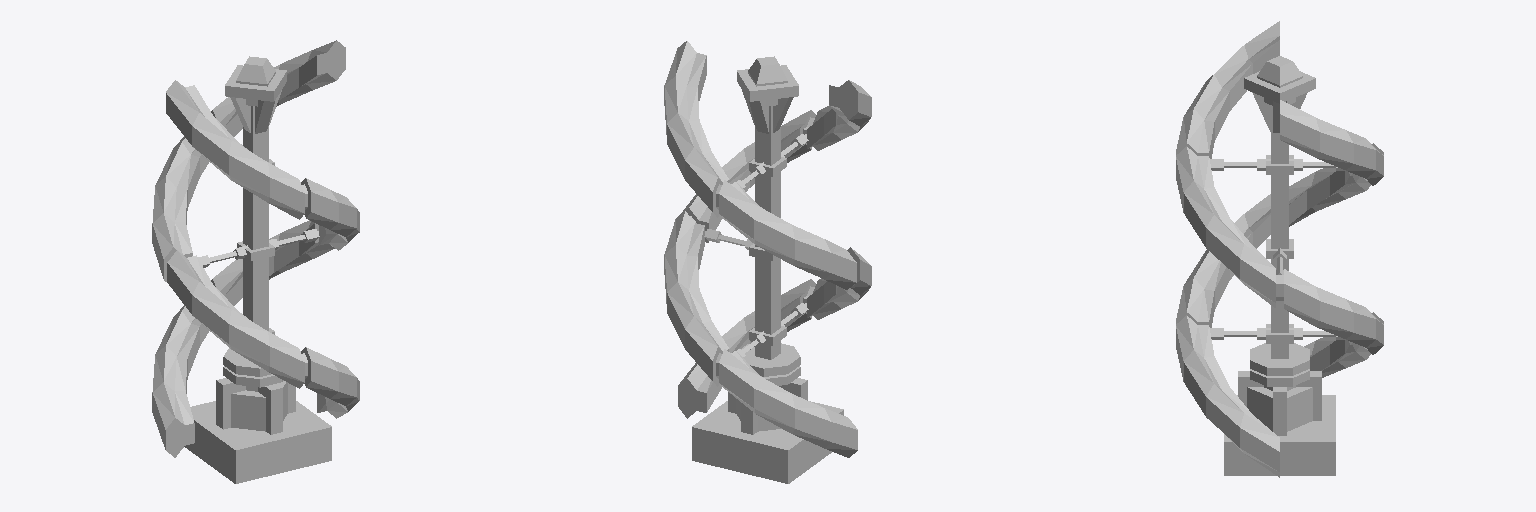
File: darius_wind_generator.obj
The picture shows the model from 3 angles: view 1: azimuth 30°, elevation 25°; view 2: azimuth 150°, elevation 25°; view 3: azimuth 270°, elevation 25°; orthographic projection.
Parts seen in each view (by area): view 1: torus, torus.001, cube.004, cube.007, cube.001, cube.013, cube.003, cube.002, cube.014, cylinder.001, cylinder; view 2: torus, torus.001, cube.004, cube.007, cube.013, cylinder.001, cube.014; view 3: torus, torus.001, cube.004, cube.007, cube.001, cylinder.001, cube.013, cube.002, cube.014, cube.003, cylinder.
Boxes of the visible parts, <box> form: torus: <box>152,80,359,457</box>; torus.001: <box>152,40,359,418</box>; cube.004: <box>184,401,331,483</box>; cube.007: <box>243,106,268,330</box>; cube.001: <box>231,381,287,431</box>; cube.013: <box>225,65,286,101</box>; cube.003: <box>216,378,295,429</box>; cube.002: <box>258,384,282,434</box>; cube.014: <box>236,56,275,83</box>; cylinder.001: <box>223,348,270,376</box>; cylinder: <box>223,366,282,387</box>; torus: <box>664,80,871,457</box>; torus.001: <box>664,41,871,418</box>; cube.004: <box>692,401,843,483</box>; cube.007: <box>755,106,780,359</box>; cube.013: <box>737,65,798,101</box>; cylinder.001: <box>741,343,800,376</box>; cube.014: <box>748,56,787,83</box>; torus: <box>1176,21,1383,377</box>; torus.001: <box>1176,100,1383,477</box>; cube.004: <box>1224,395,1335,475</box>; cube.007: <box>1271,105,1288,358</box>; cube.001: <box>1247,387,1312,431</box>; cylinder.001: <box>1250,343,1309,375</box>; cube.013: <box>1244,71,1315,103</box>; cube.002: <box>1238,371,1321,420</box>; cube.014: <box>1257,56,1302,85</box>; cube.003: <box>1273,387,1286,435</box>; cylinder: <box>1250,369,1309,386</box>.
Bounding box in the file's own units: 5.6 × 11.6 × 5.6.